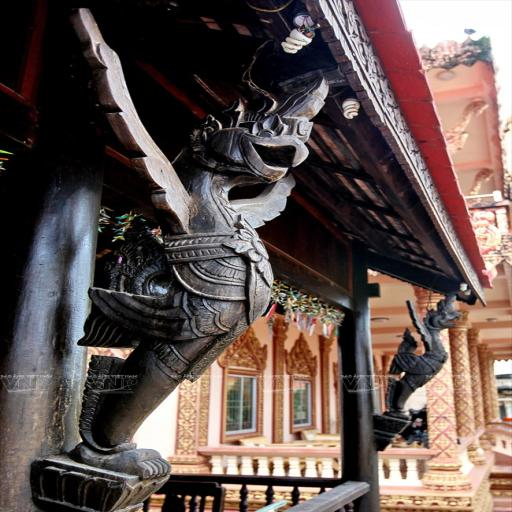than: (35, 3, 338, 512), (354, 272, 480, 456)
